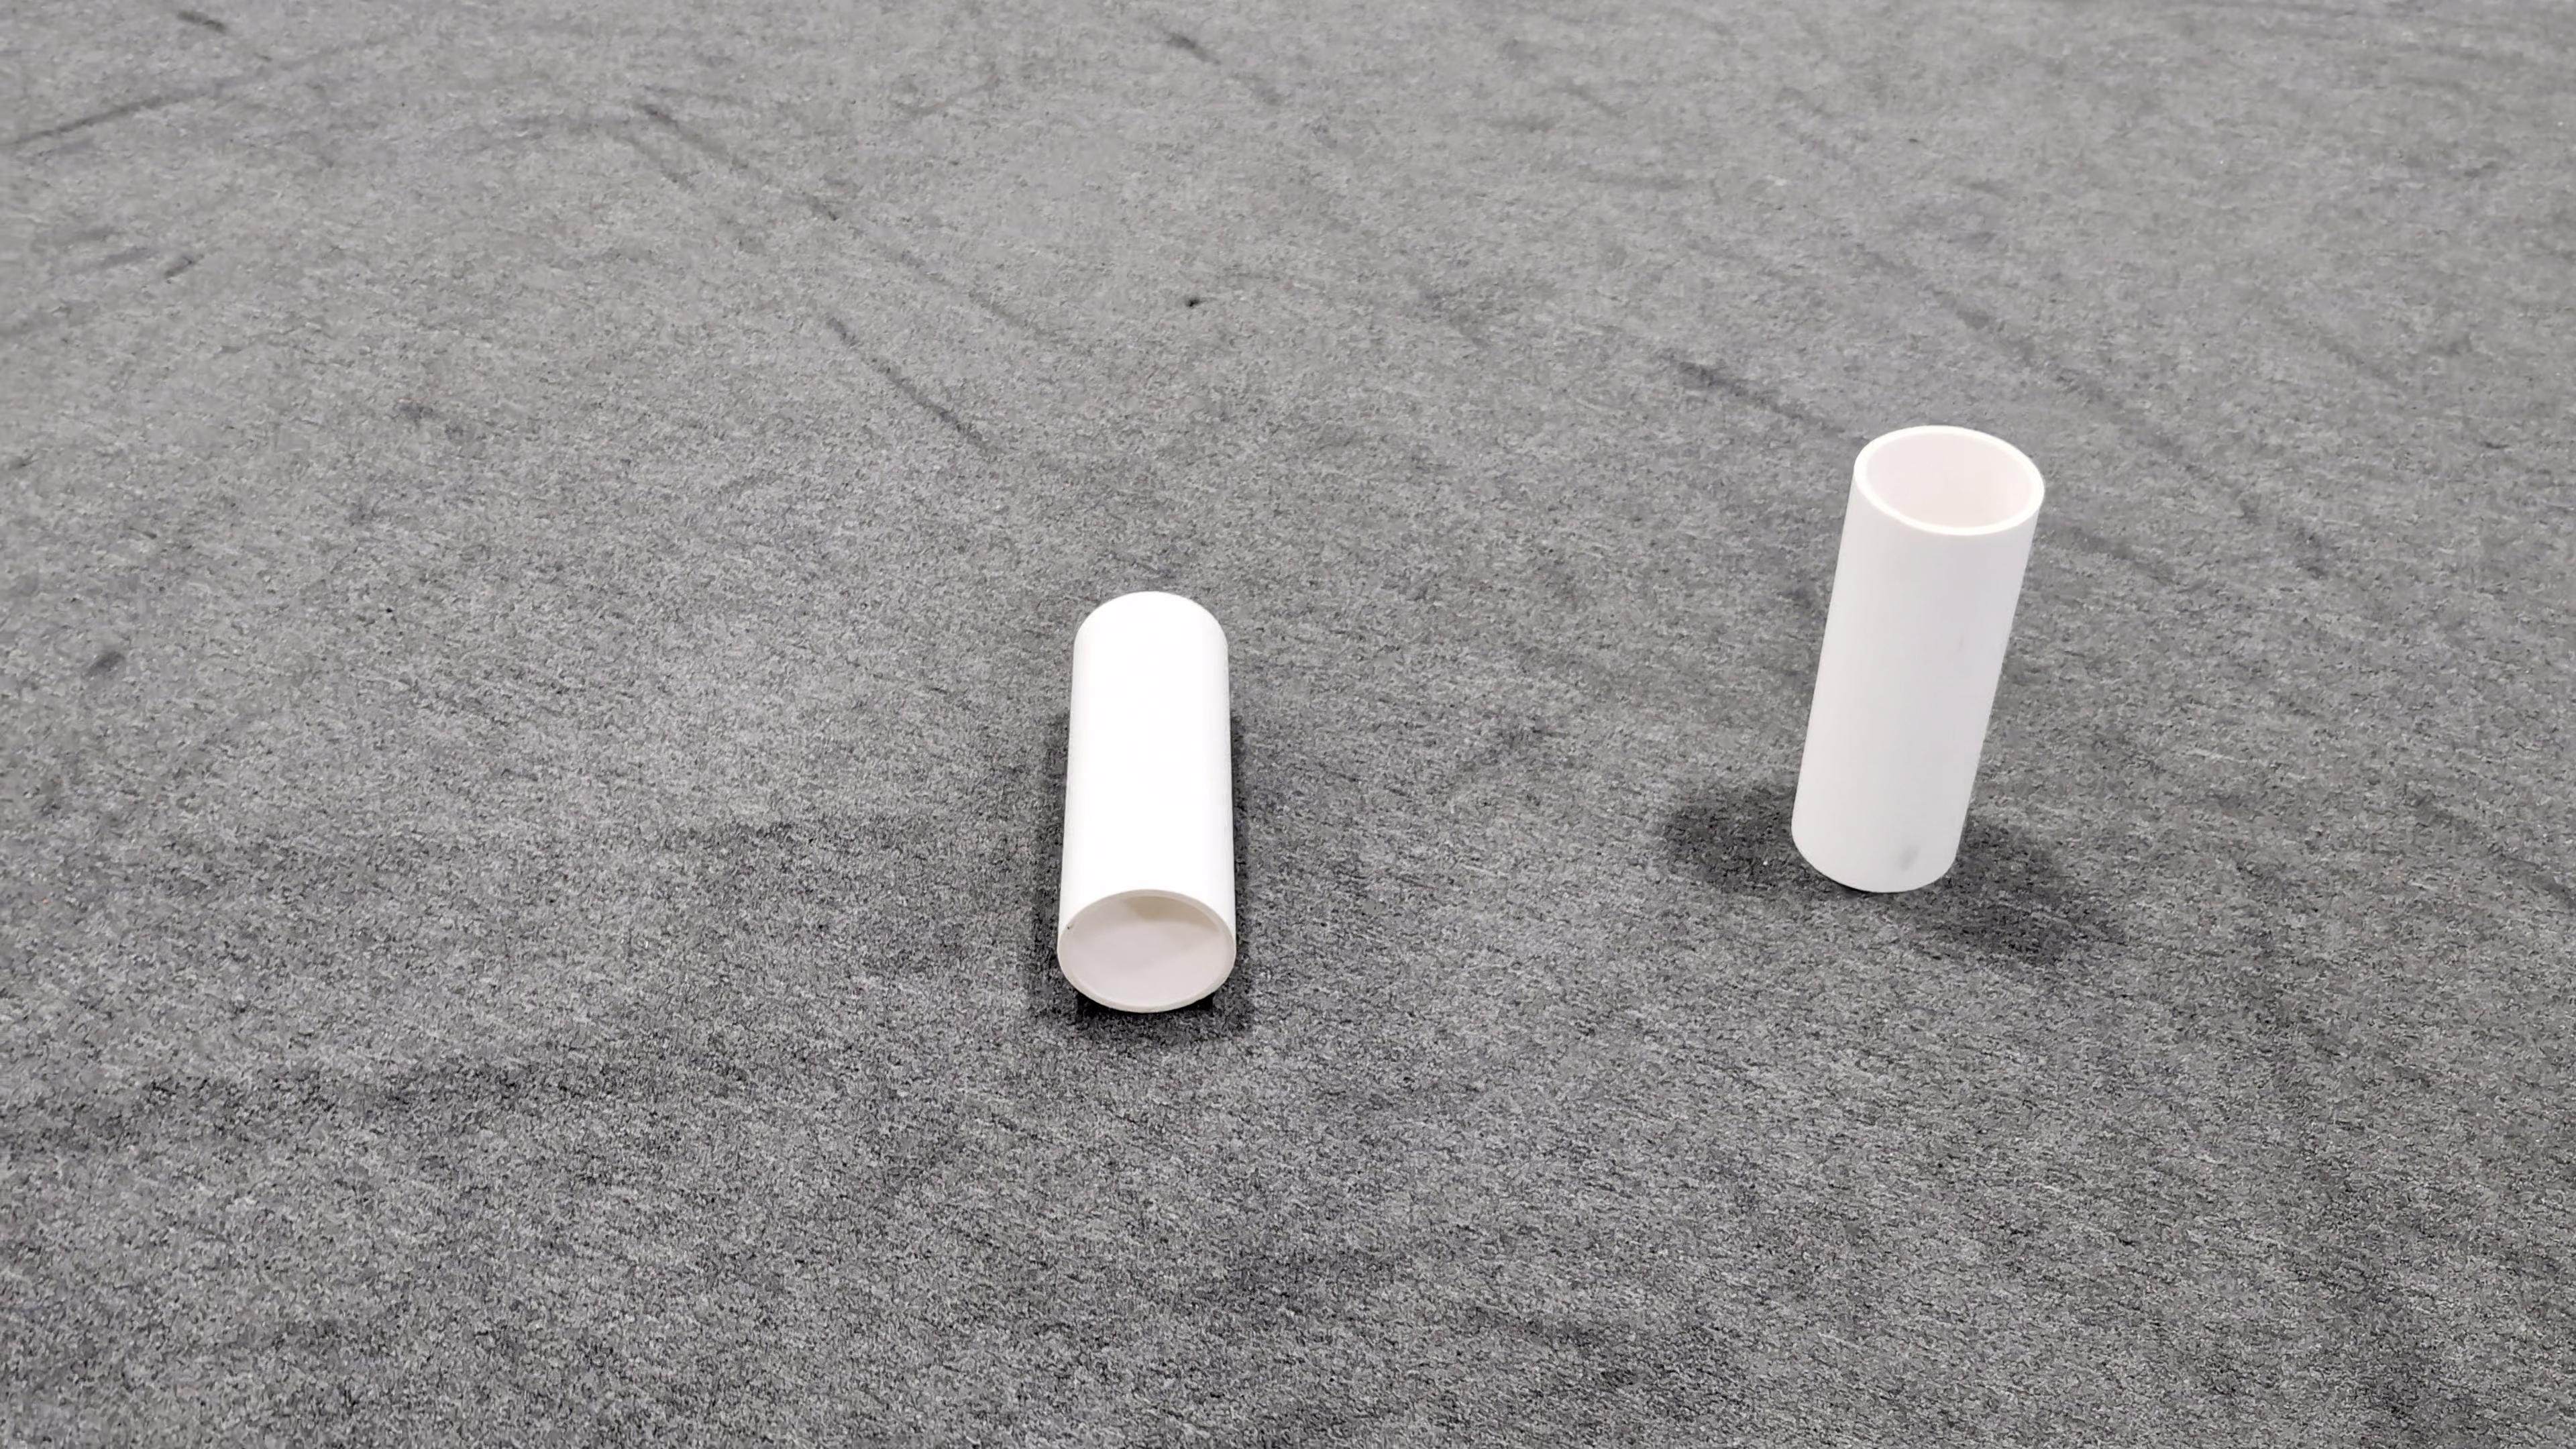coral: (1785, 423, 2045, 893), (1053, 589, 1238, 1014)
